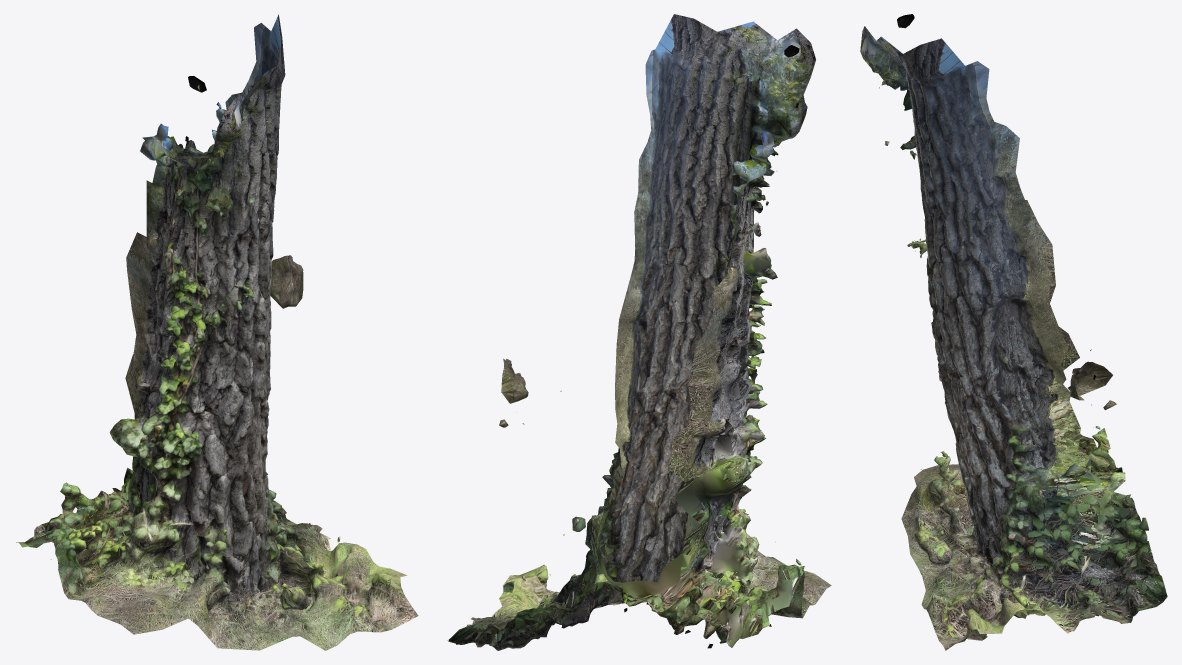
File: anotherTreeScan_lowPoly.glb
The picture shows the model from 3 angles, left to right: view 1: azimuth 30°, elevation 25°; view 2: azimuth 150°, elevation 25°; view 3: azimuth 270°, elevation 25°; orthographic projection. The views are drawn at different scales.
Parts seen in each view (by area): view 1: anotherTreeScan; view 2: anotherTreeScan; view 3: anotherTreeScan.
Boxes of the visible parts, x1,y1,x2,y2 form: anotherTreeScan: (16, 14, 418, 650); anotherTreeScan: (447, 14, 831, 650); anotherTreeScan: (860, 14, 1167, 650).
Bounding box in the file's own units: 16.84 × 30.71 × 15.3.
1 material, 1 textured.
